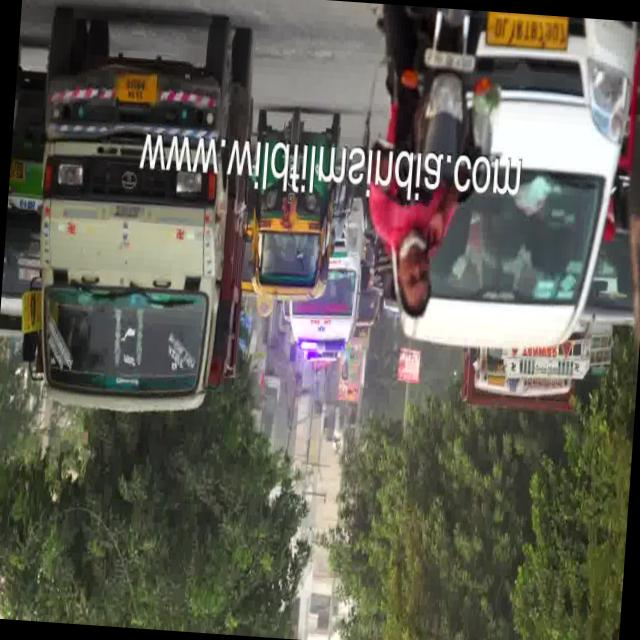ambulance: (282, 300, 356, 374)
